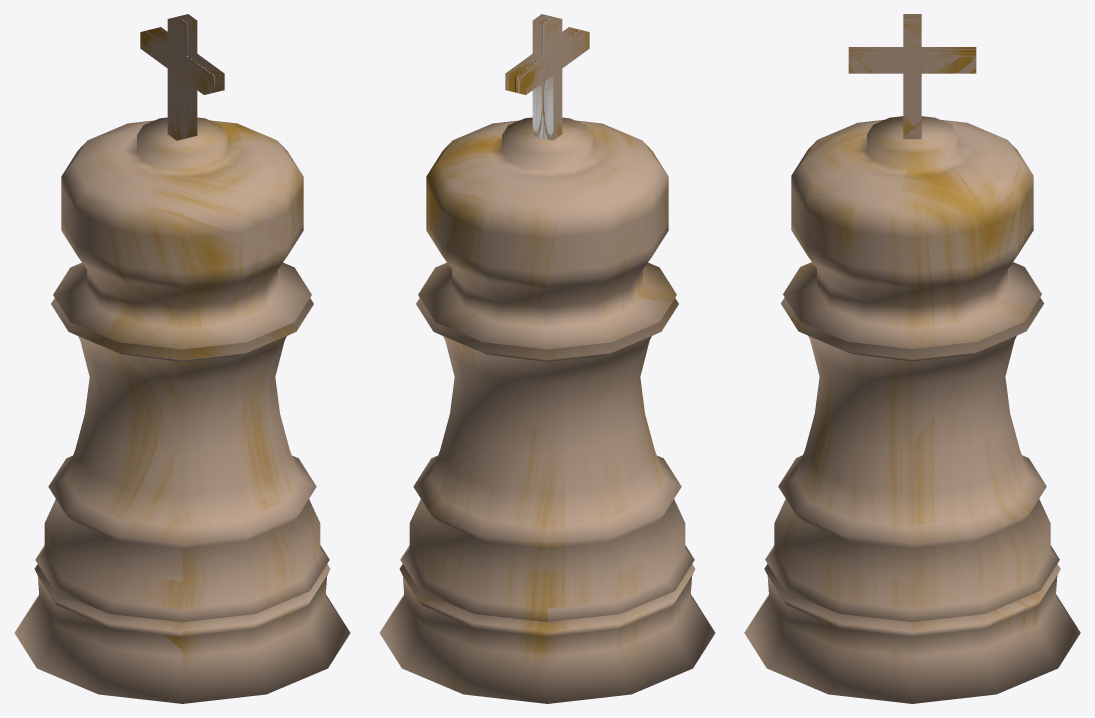
The model's file is White King.fbx.
The picture shows the model from 3 angles, left to right: view 1: azimuth 30°, elevation 25°; view 2: azimuth 150°, elevation 25°; view 3: azimuth 270°, elevation 25°; orthographic projection.
Parts seen in each view (by area): view 1: White_King:King_Piece:cylinder, White_King:King_Piece:cube; view 2: White_King:King_Piece:cylinder, White_King:King_Piece:cube; view 3: White_King:King_Piece:cylinder, White_King:King_Piece:cube.
Part boxes in pixels (x1,y1,x2,y2): White_King:King_Piece:cylinder: [14, 117, 350, 703]; White_King:King_Piece:cube: [140, 14, 224, 140]; White_King:King_Piece:cylinder: [379, 117, 715, 703]; White_King:King_Piece:cube: [505, 14, 589, 140]; White_King:King_Piece:cylinder: [744, 116, 1080, 703]; White_King:King_Piece:cube: [848, 14, 976, 139].
Bounding box in the file's own units: 2.78 × 5.59 × 2.78.
1 material, 1 textured.
